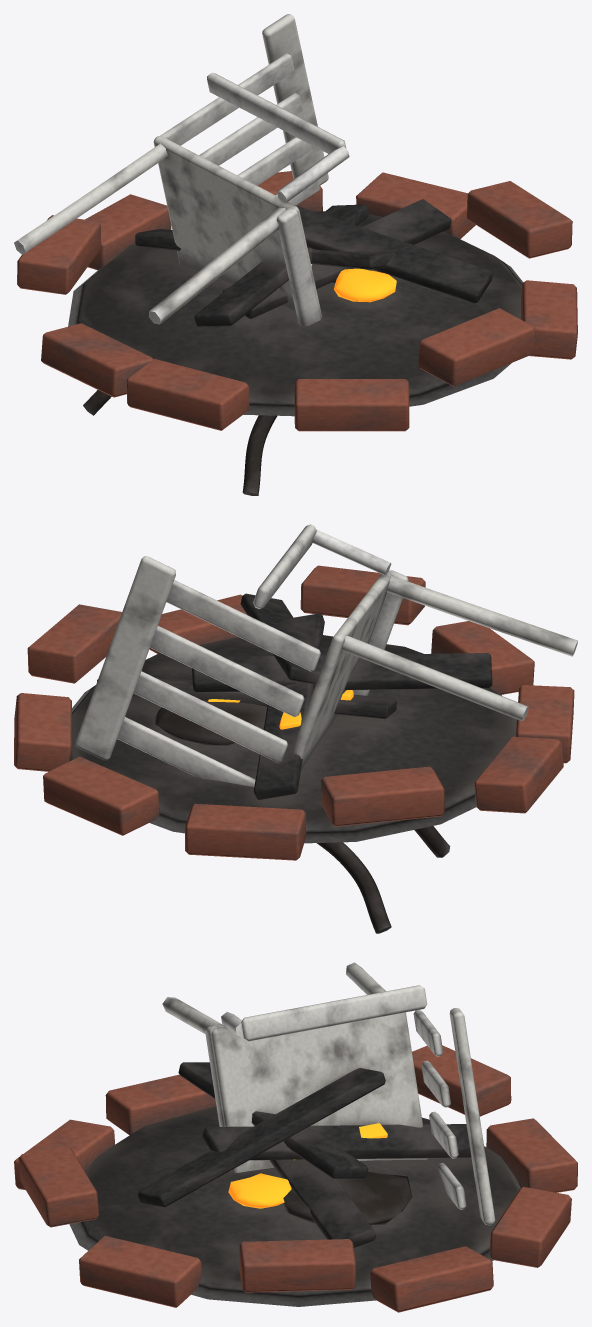
File: bezd_ognisko.glb
The picture shows the model from 3 angles, top to bottom: view 1: azimuth 30°, elevation 25°; view 2: azimuth 150°, elevation 25°; view 3: azimuth 270°, elevation 25°; orthographic projection.
Parts seen in each view (by area): view 1: Ognisko, Fotel, Zar; view 2: Ognisko, Fotel; view 3: Ognisko, Fotel, Zar.
Part boxes in pixels (bbox=[...]): Ognisko: bbox=[17, 171, 577, 431]; Fotel: bbox=[14, 14, 349, 495]; Zar: bbox=[278, 264, 396, 302]; Ognisko: bbox=[14, 565, 574, 860]; Fotel: bbox=[75, 524, 577, 933]; Ognisko: bbox=[14, 1045, 577, 1312]; Fotel: bbox=[162, 962, 495, 1225]; Zar: bbox=[228, 1123, 387, 1208].
Size of the model in its own units: 1.21 by 0.8077 by 1.19.
3 materials, 2 textured.
